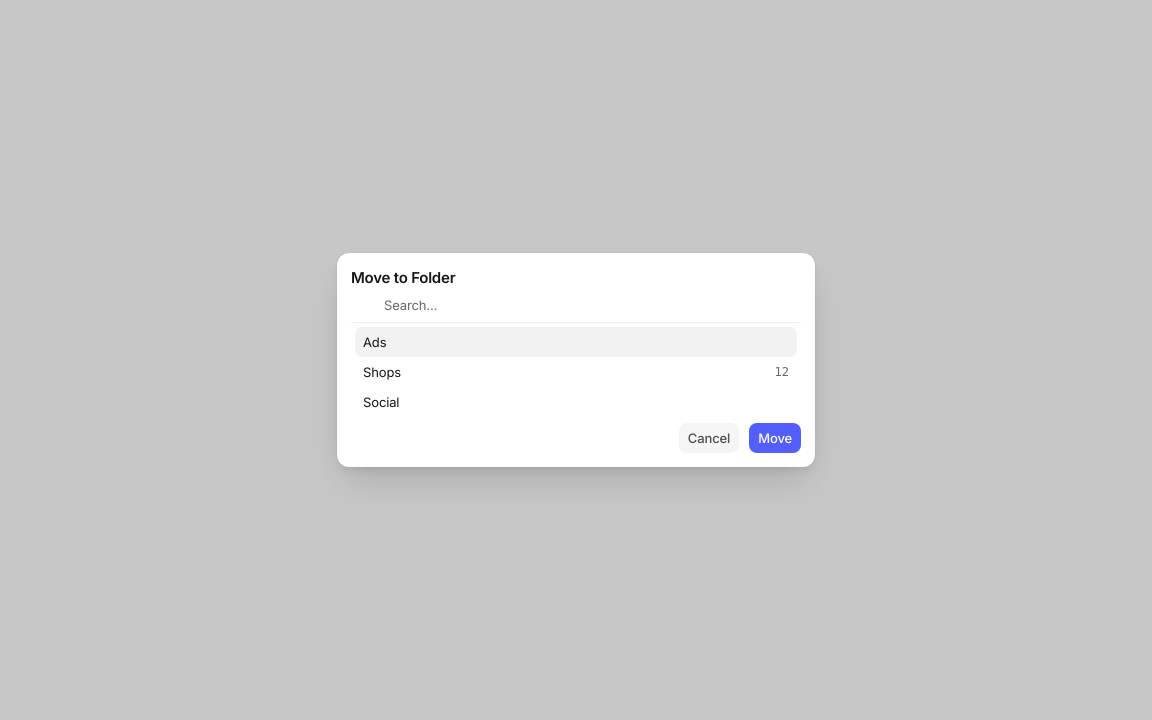
Combobox › inside a DialogModal form, neither a pick nor an Enter with no results submits the form
Type "sho" into the dropdown named "Folder" at (586, 305), box left=384, top=288, right=789, bottom=322
Then press Enter
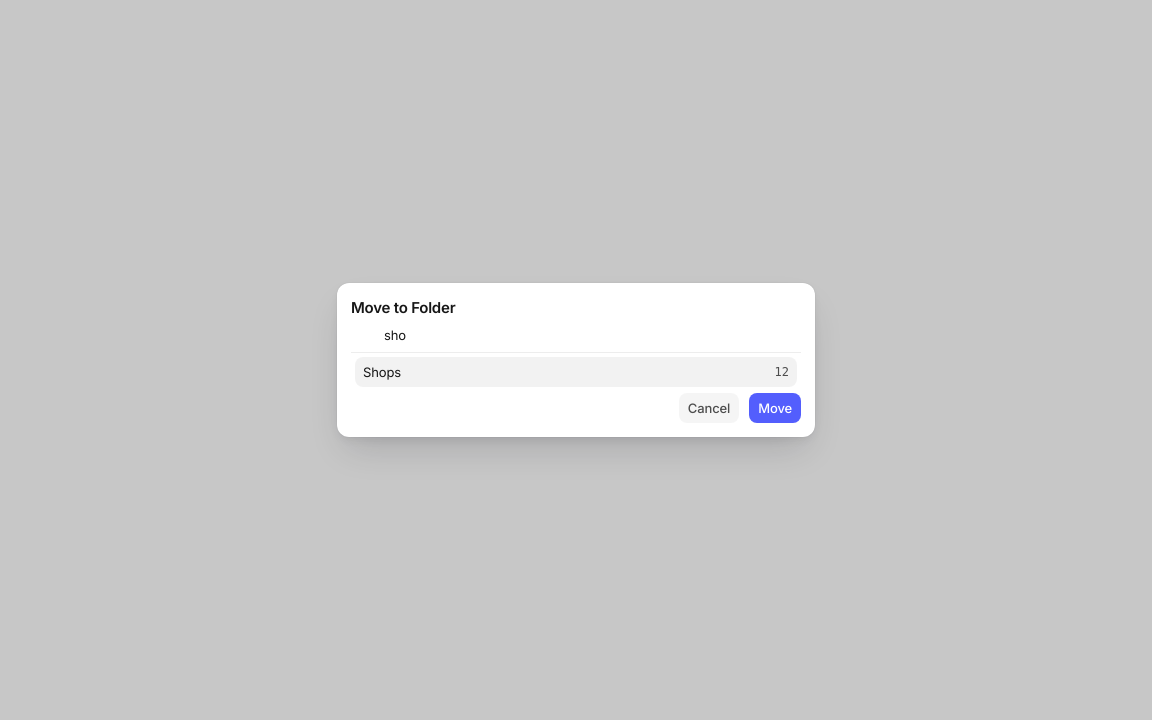
Clear the dropdown named "Folder" at (586, 335), box left=384, top=318, right=789, bottom=352
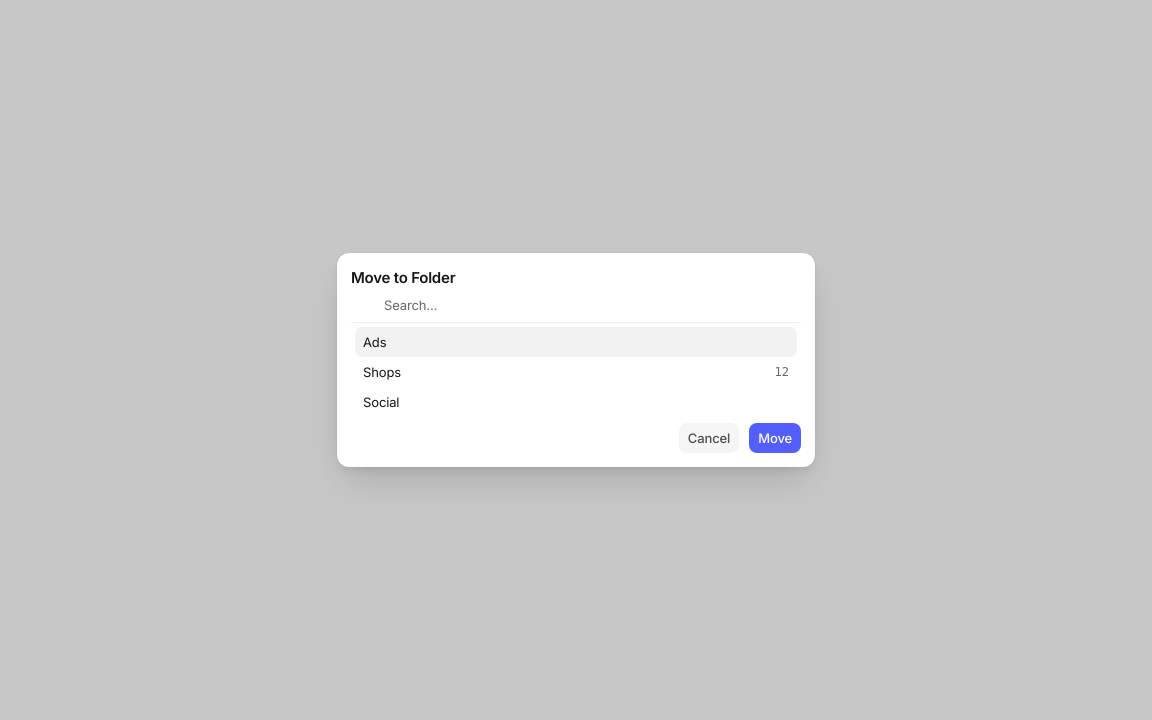
Type "zzz" into the dropdown named "Folder" at (586, 305), box left=384, top=288, right=789, bottom=322
Then press Enter
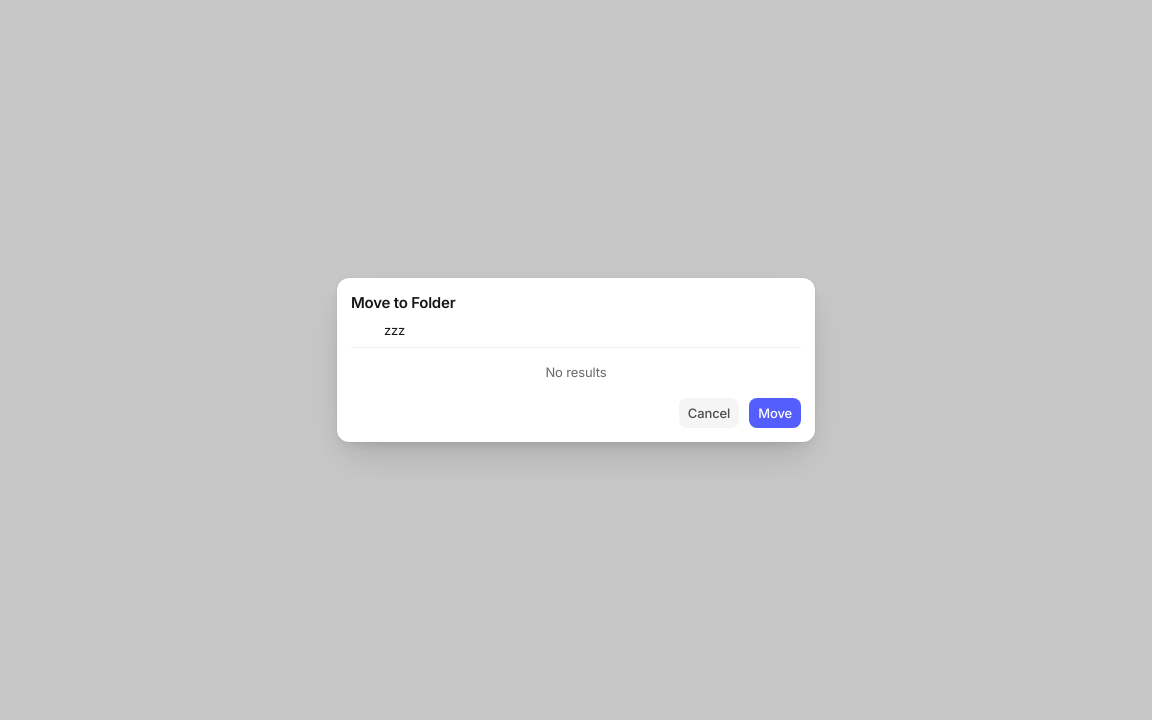
expect the message reads "No results": met, box left=546, top=364, right=607, bottom=380
